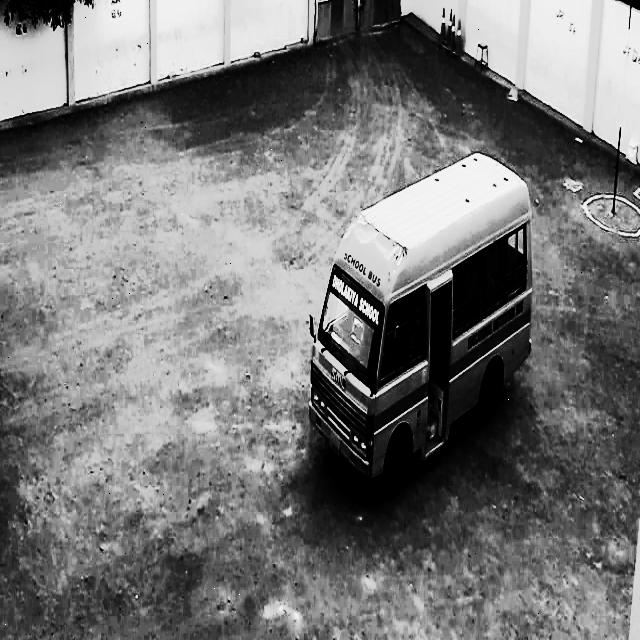Bus: (304, 135, 544, 520)
